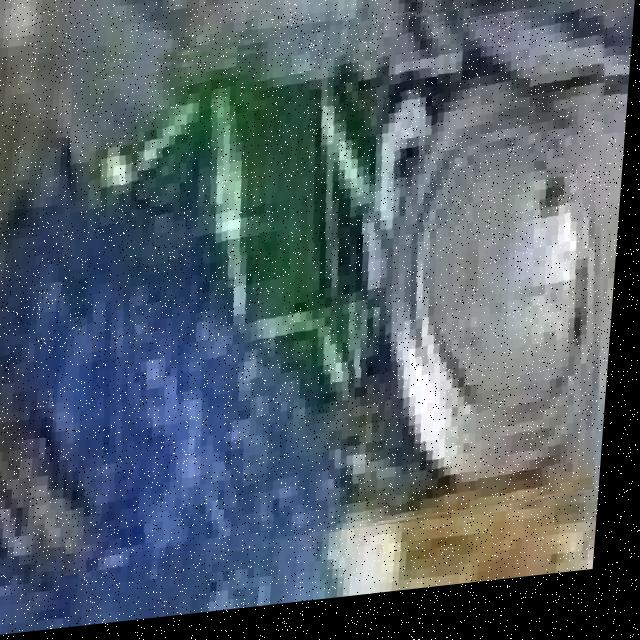litter: (72, 54, 605, 523)
